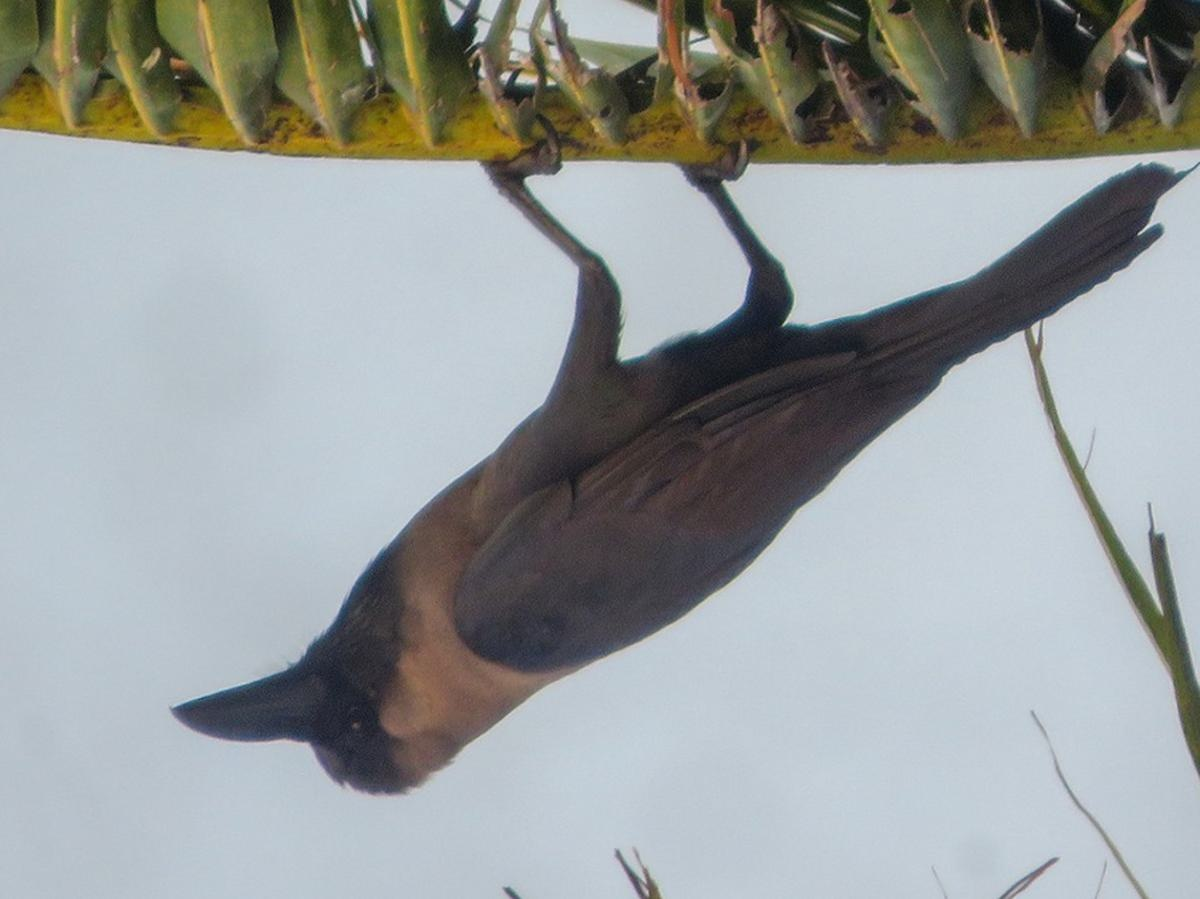crow: (162, 95, 1175, 812)
